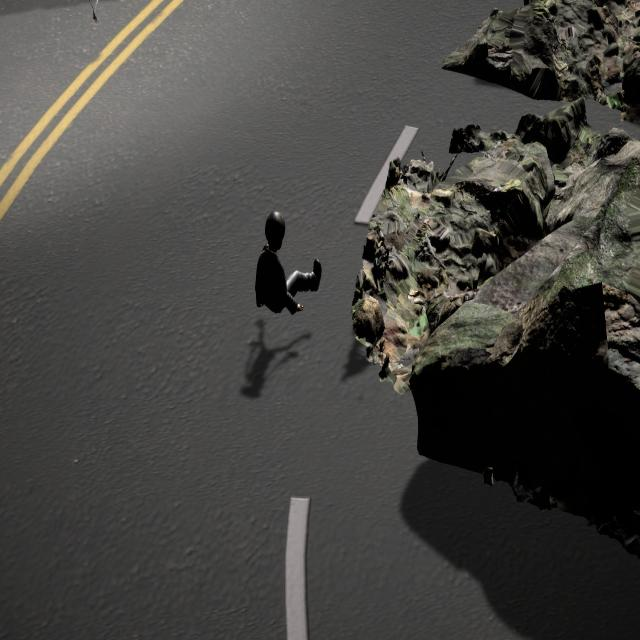Human: (253, 194, 324, 314)
